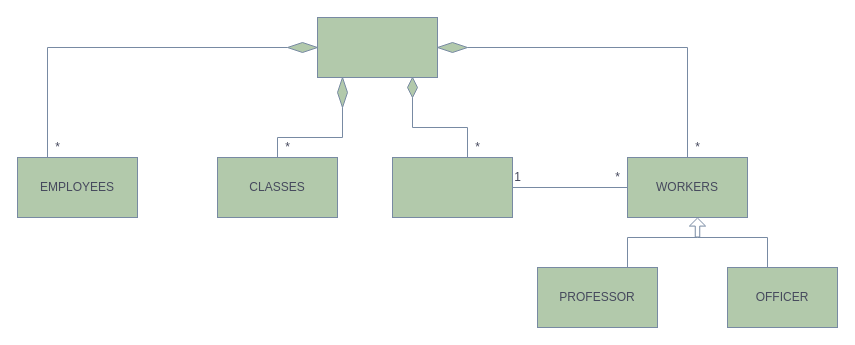
The diagram is 855 pixels wide and 345 high, and some of its shapes have lost their labels. Here are the shapes that lost their labels. From the top down, the centre of each, then its label:
At point (377, 47): "UNIVERSITY".
At point (452, 187): "OFFICES".
